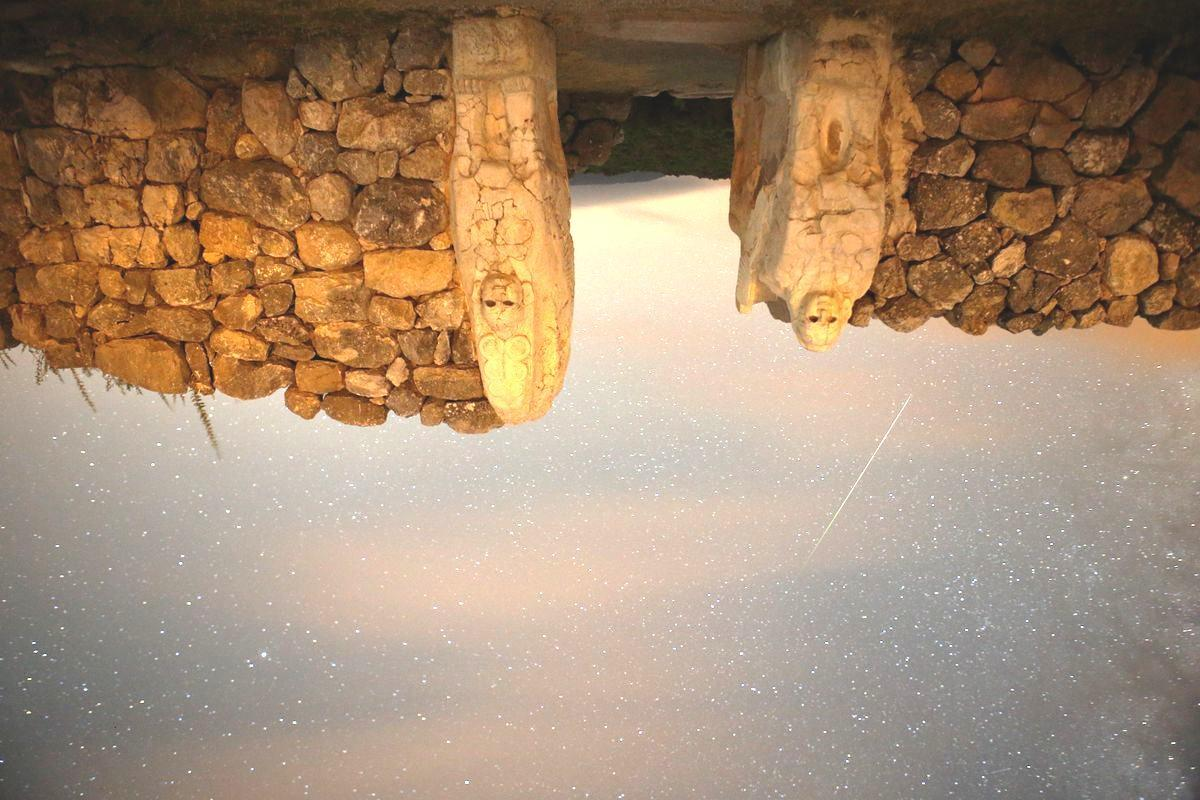meteorite: (793, 361, 937, 563)
